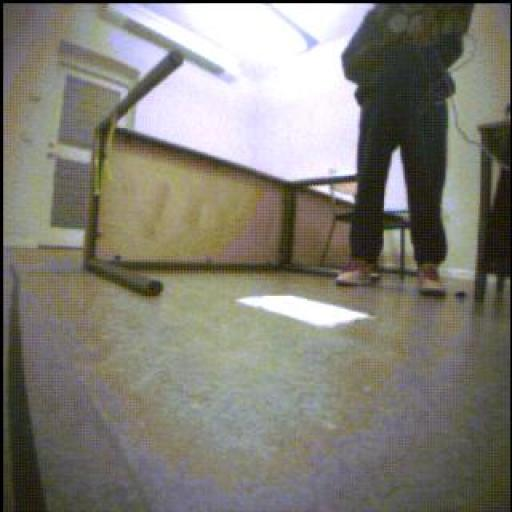Pad: (238, 297, 371, 329)
